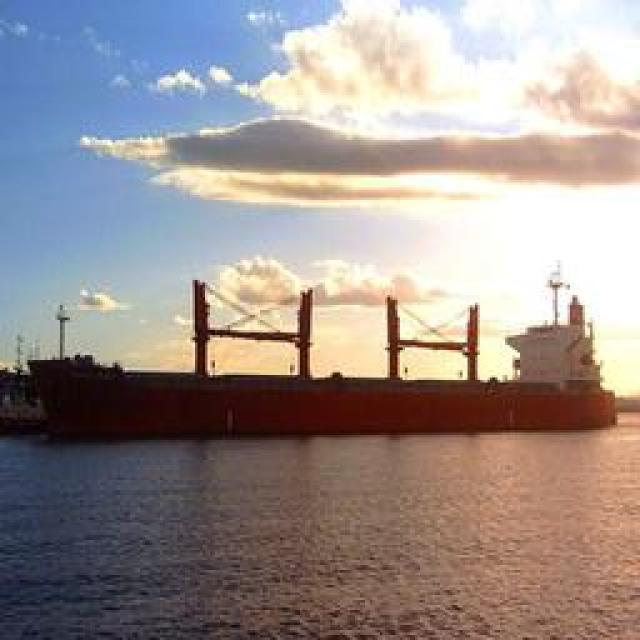CIV_Ship: (24, 362, 618, 436)
